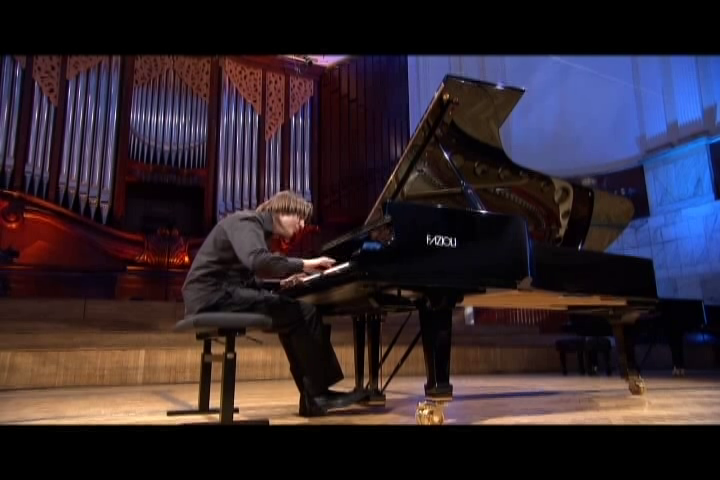keyboard: (266, 254, 354, 299)
